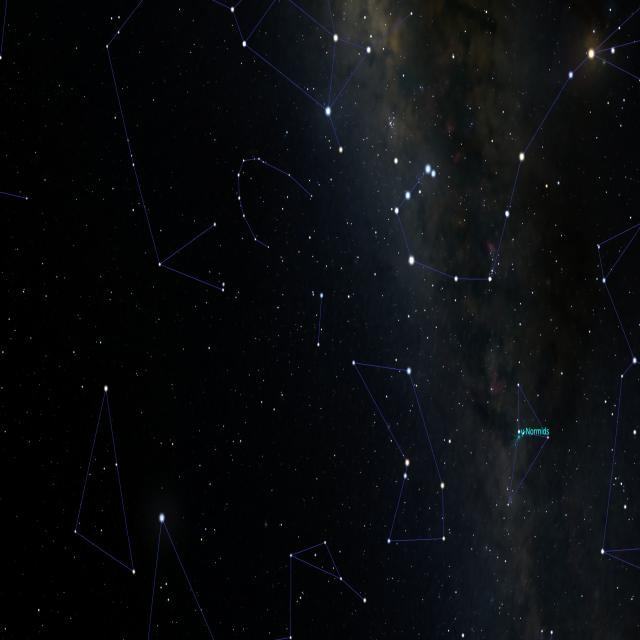Telescopium: (315, 291, 326, 349)
